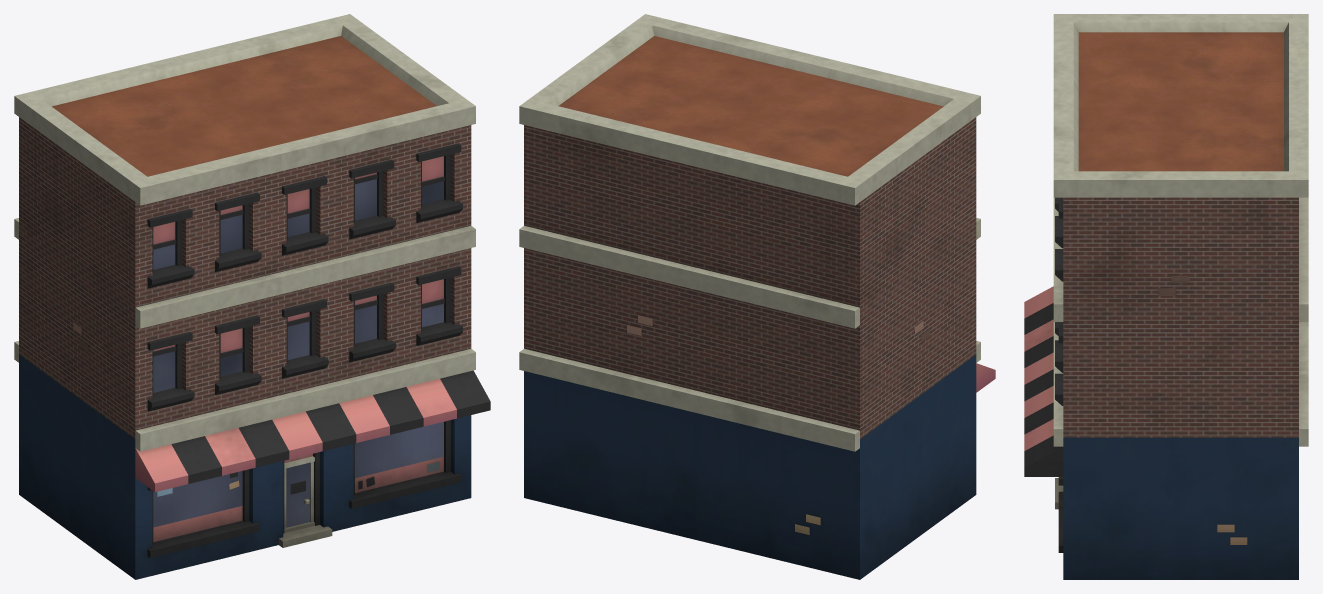
Rendered from building_E.glb.
The picture shows the model from 3 angles, left to right: view 1: azimuth 30°, elevation 25°; view 2: azimuth 150°, elevation 25°; view 3: azimuth 270°, elevation 25°; orthographic projection.
Parts seen in each view (by area): view 1: building_E_withoutBase; view 2: building_E_withoutBase; view 3: building_E_withoutBase.
Boxes of the visible parts, <box> form: building_E_withoutBase: <box>14,14,490,579</box>; building_E_withoutBase: <box>519,14,995,579</box>; building_E_withoutBase: <box>1024,14,1308,579</box>.
Size of the model in its own units: 2.01 by 2.25 by 1.45.
2 materials, 2 textured.
